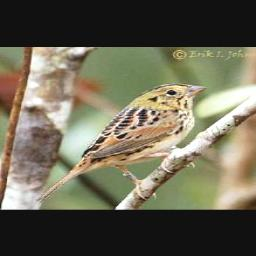Sparrow: (26, 81, 208, 205)
